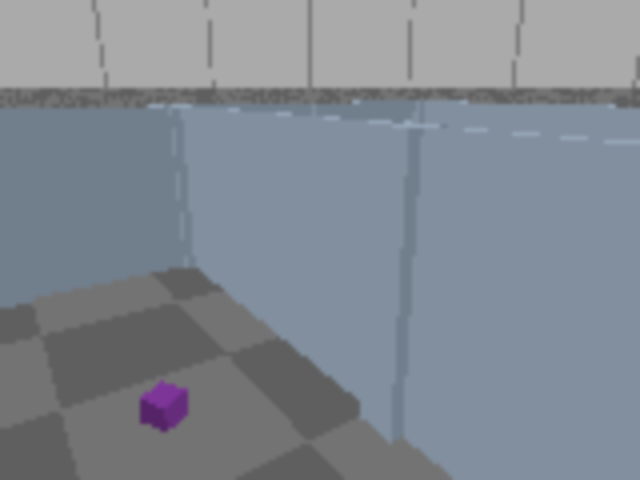puck: (139, 381, 189, 432)
